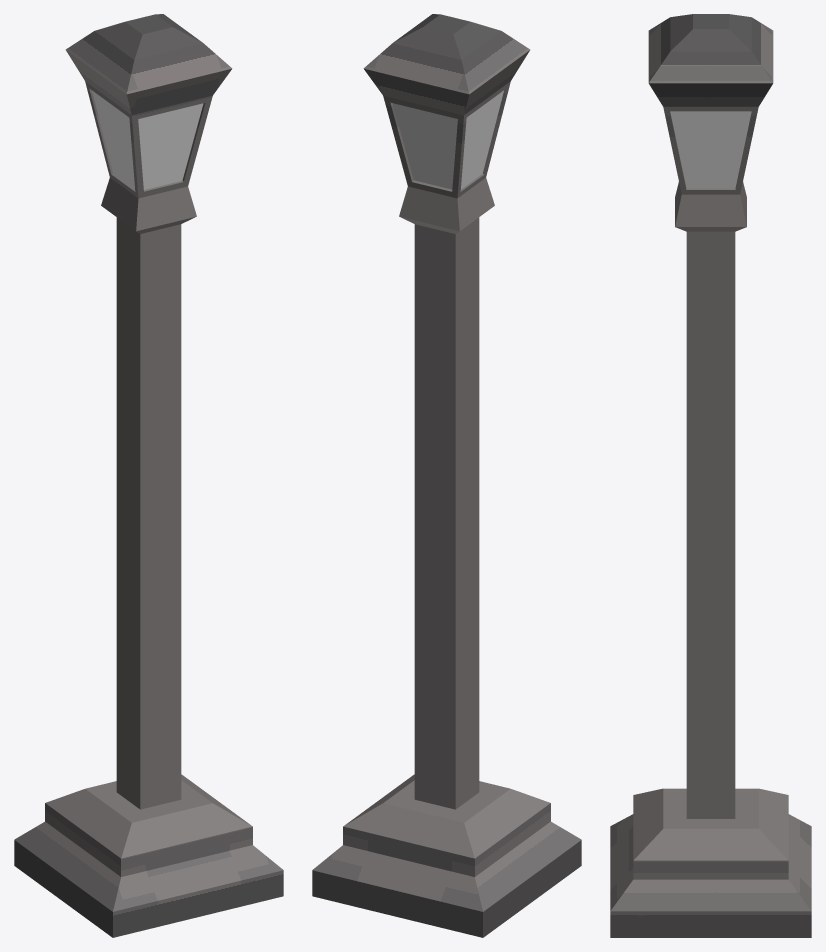
Rendered from Sal.fbx.
3 views of the same model, side by side, from view 1: azimuth 30°, elevation 25°; view 2: azimuth 150°, elevation 25°; view 3: azimuth 270°, elevation 25° (orthographic). The views are drawn at different scales.
Parts seen in each view (by area): view 1: Cube.001; view 2: Cube.001; view 3: Cube.001.
Part boxes in pixels (bbox=[...]): Cube.001: bbox=[14, 14, 283, 937]; Cube.001: bbox=[312, 14, 581, 937]; Cube.001: bbox=[610, 14, 811, 937].
Bounding box in the file's own units: 29.44 × 141 × 29.44.
Materials: 2 (1 with a texture image).
